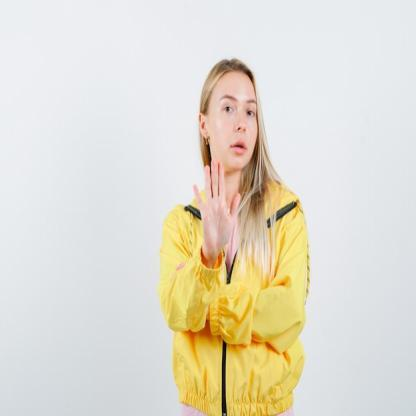stop: (189, 155, 242, 262)
